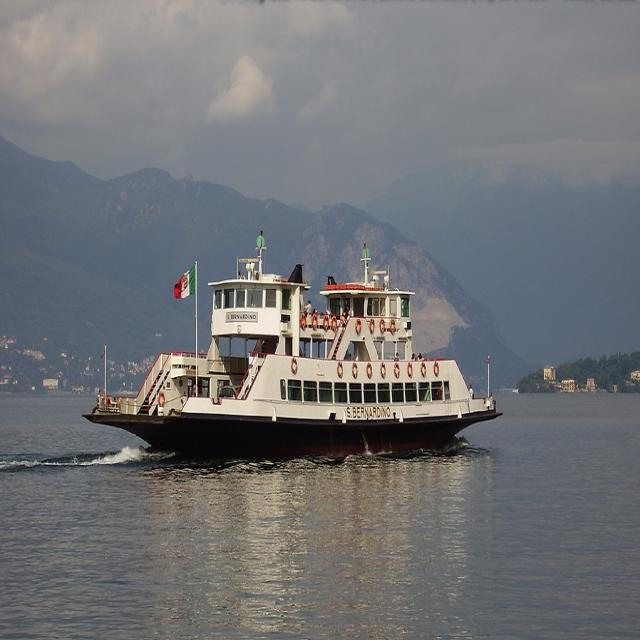passenger ship: (97, 251, 509, 454)
